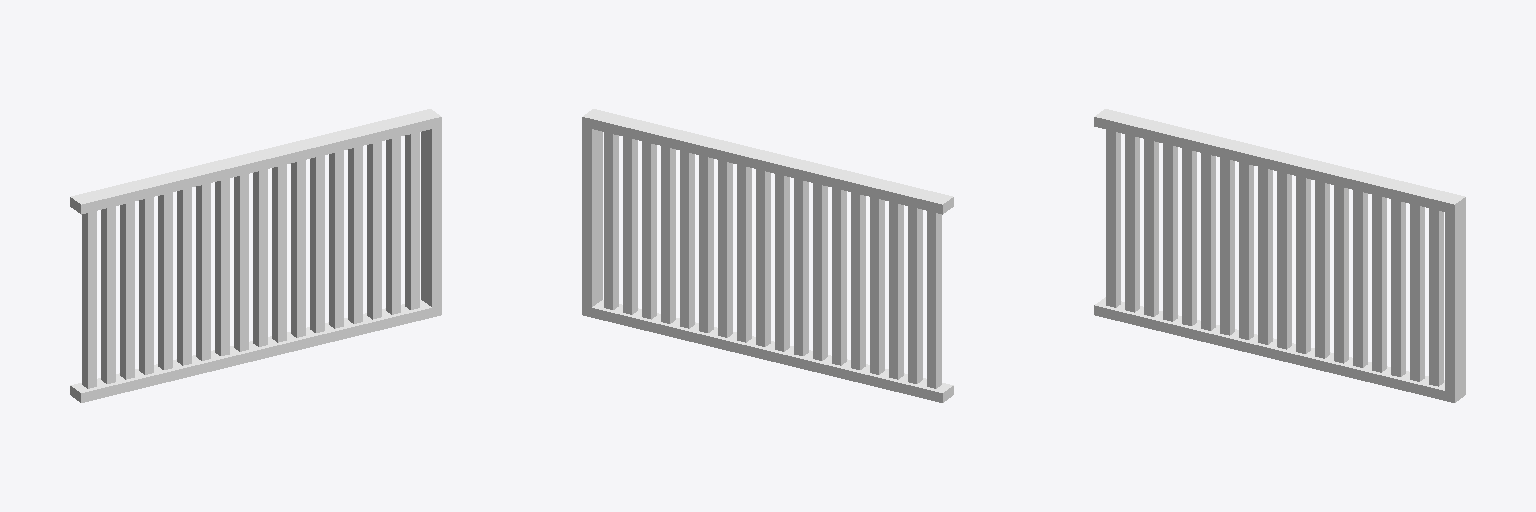
The model's file is Fence1.obj.
The picture shows the model from 3 angles: view 1: azimuth 30°, elevation 25°; view 2: azimuth 150°, elevation 25°; view 3: azimuth 330°, elevation 25°; orthographic projection.
Visible parts, largest first — view 1: object 1; view 2: object 1; view 3: object 1.
Boxes of the visible parts, x1=… form: object 1: x1=70, y1=109, x2=441, y2=402; object 1: x1=582, y1=109, x2=953, y2=402; object 1: x1=1094, y1=109, x2=1465, y2=402.
Bounding box in the file's own units: 7.6 × 4 × 0.4.